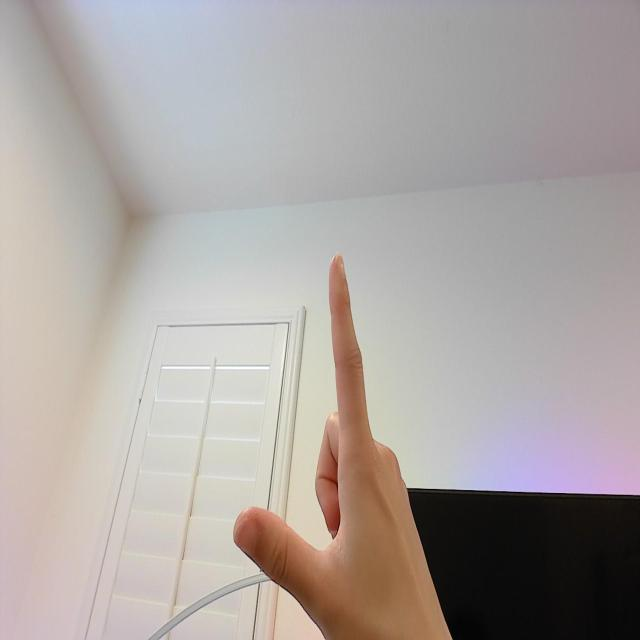L: (227, 244, 436, 640)
